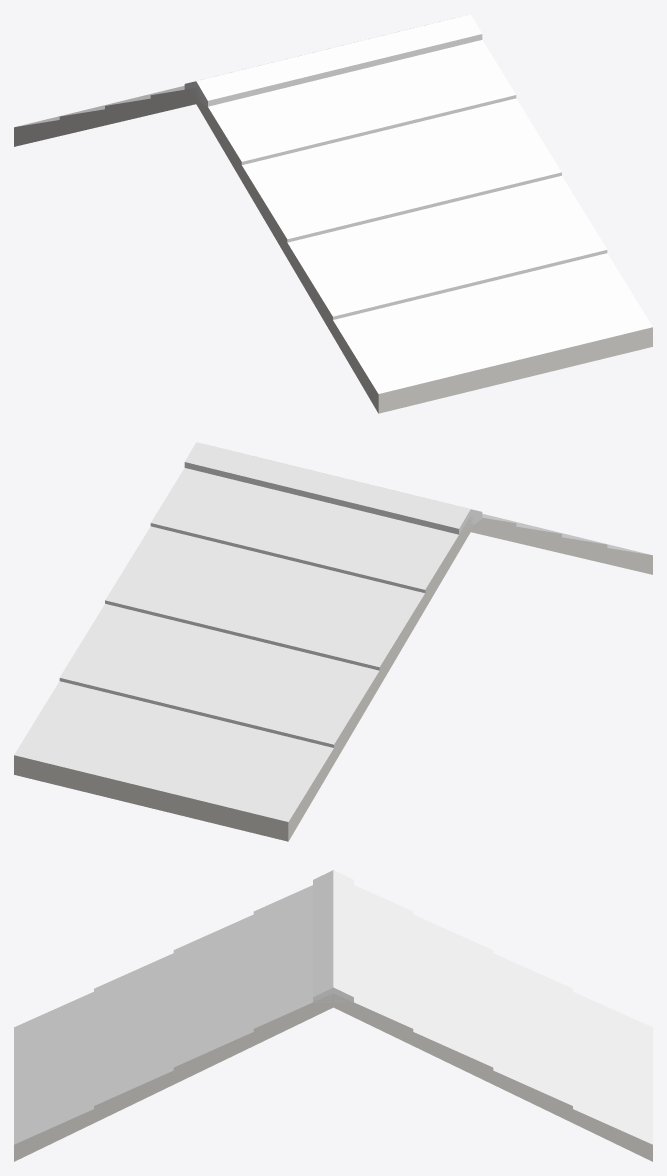
Rendered from house_roof_6.glb.
3 views of the same model, one above another, from view 1: azimuth 30°, elevation 25°; view 2: azimuth 150°, elevation 25°; view 3: azimuth 270°, elevation 25° (orthographic). The views are drawn at different scales.
Parts seen in each view (by area): view 1: house_roof_6__mesh; view 2: house_roof_6__mesh; view 3: house_roof_6__mesh.
Part boxes in pixels (x1,y1,x2,y2): house_roof_6__mesh: (14,14,652,413); house_roof_6__mesh: (14,442,652,841); house_roof_6__mesh: (14,870,652,1161).
Size of what is drawn, in the model's own units: 3 by 2.08 by 6.9.
1 material, 1 textured.
